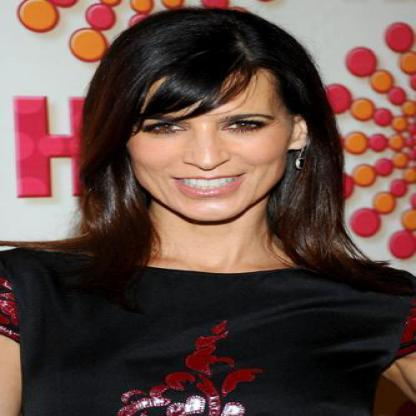long-hair: (64, 226, 367, 264)
